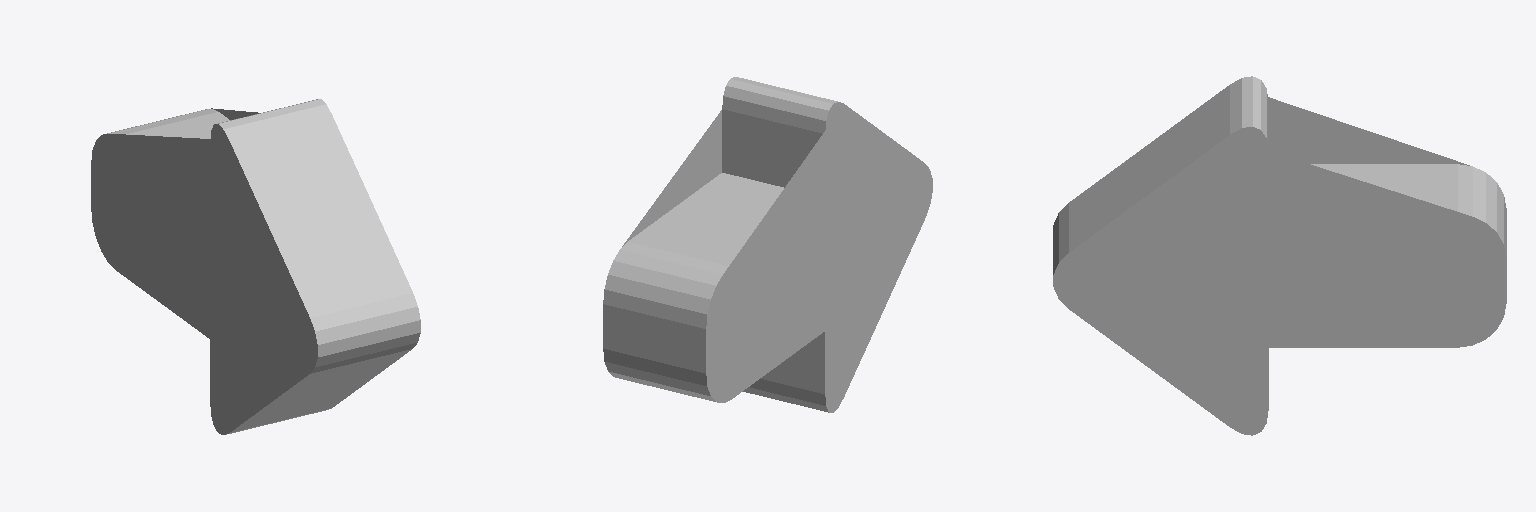
The model's file is arrow.obj.
3 views of the same model, side by side, from view 1: azimuth 30°, elevation 25°; view 2: azimuth 150°, elevation 25°; view 3: azimuth 270°, elevation 25° (orthographic).
Parts seen in each view (by area): view 1: Плоскость; view 2: Плоскость; view 3: Плоскость.
Part boxes in pixels (x1,y1,x2,y2): Плоскость: (91, 99, 420, 434); Плоскость: (603, 77, 932, 412); Плоскость: (1053, 76, 1506, 435).
Size of the model in its own units: 0.1 by 0.2866 by 0.3807.